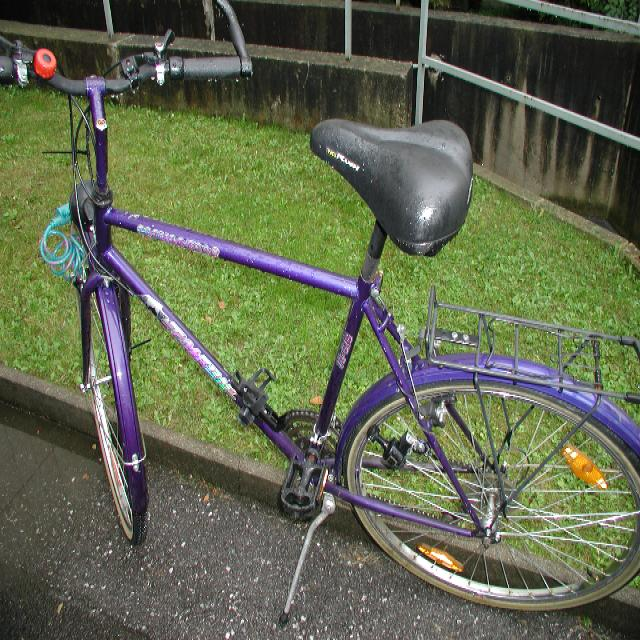bicycle: (5, 5, 638, 624)
